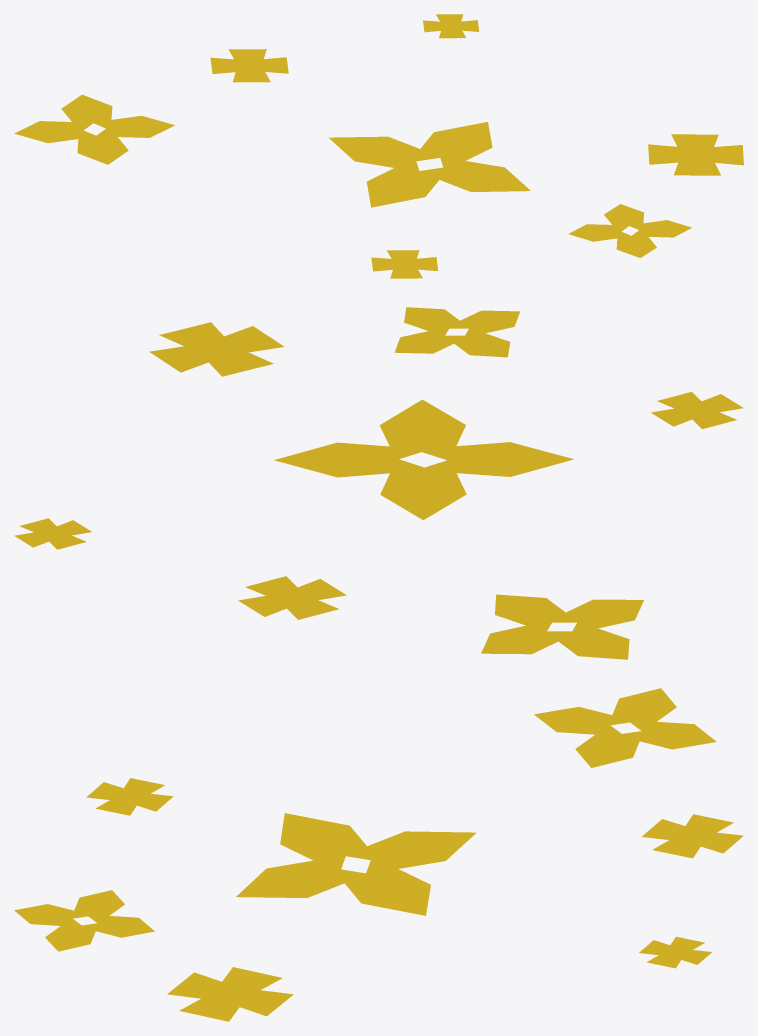
The model's file is flowers2.fbx.
3 renders of one model, top to bottom at view 1: azimuth 30°, elevation 25°; view 2: azimuth 150°, elevation 25°; view 3: azimuth 270°, elevation 25°, orthographic. The views are drawn at different scales.
Parts seen in each view (by area): view 1: Flowers2; view 2: Flowers2; view 3: Flowers2.
Boxes of the visible parts, x1,y1,x2,y2 form: Flowers2: (14, 14, 743, 278); Flowers2: (14, 307, 743, 659); Flowers2: (14, 688, 743, 1021).
Bounding box in the file's own units: 172 × 3.92 × 167.
